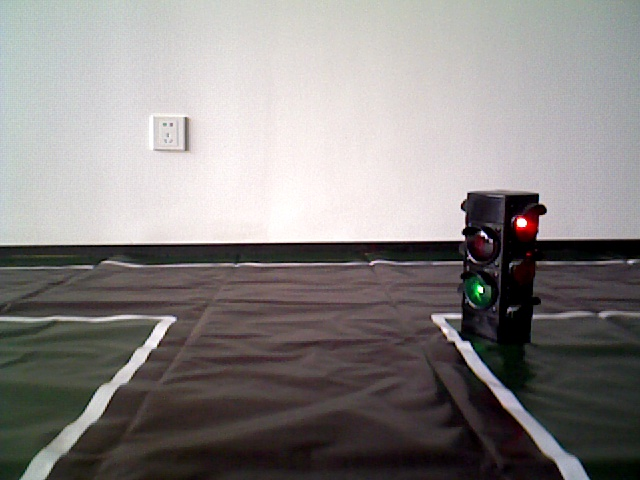red: (463, 196, 536, 340)
